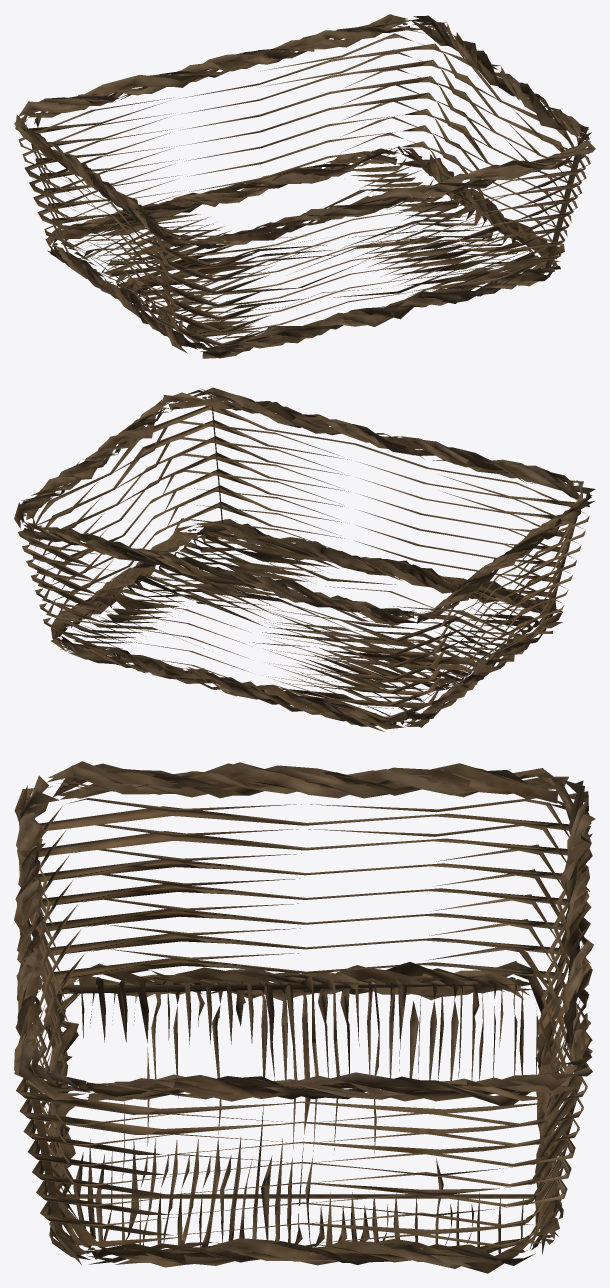
The model's file is ph_wicker_basket_01.glb.
The picture shows the model from 3 angles, top to bottom: view 1: azimuth 30°, elevation 25°; view 2: azimuth 150°, elevation 25°; view 3: azimuth 270°, elevation 25°; orthographic projection. The views are drawn at different scales.
Parts seen in each view (by area): view 1: wicker_basket_01; view 2: wicker_basket_01; view 3: wicker_basket_01.
Part boxes in pixels (x1,y1,x2,y2): wicker_basket_01: (14, 14, 595, 358); wicker_basket_01: (14, 387, 595, 731); wicker_basket_01: (14, 761, 595, 1273).
Size of the model in its own units: 0.383 by 0.1218 by 0.2931.
1 material, 1 textured.
